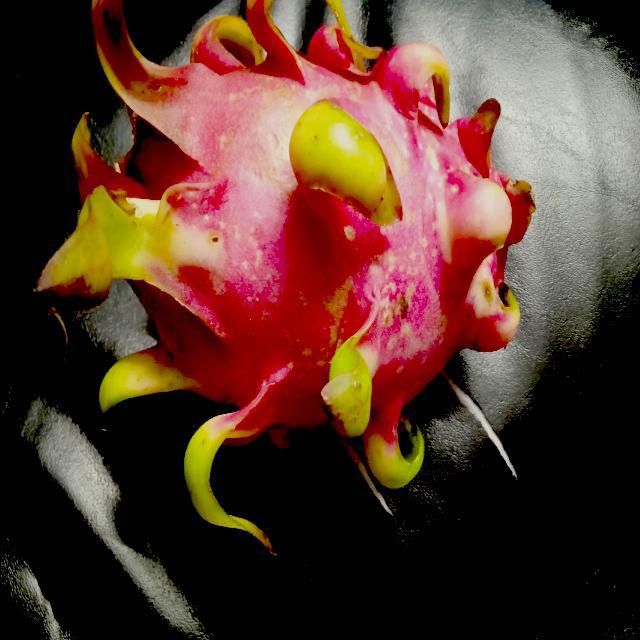do: (30, 0, 536, 549)
